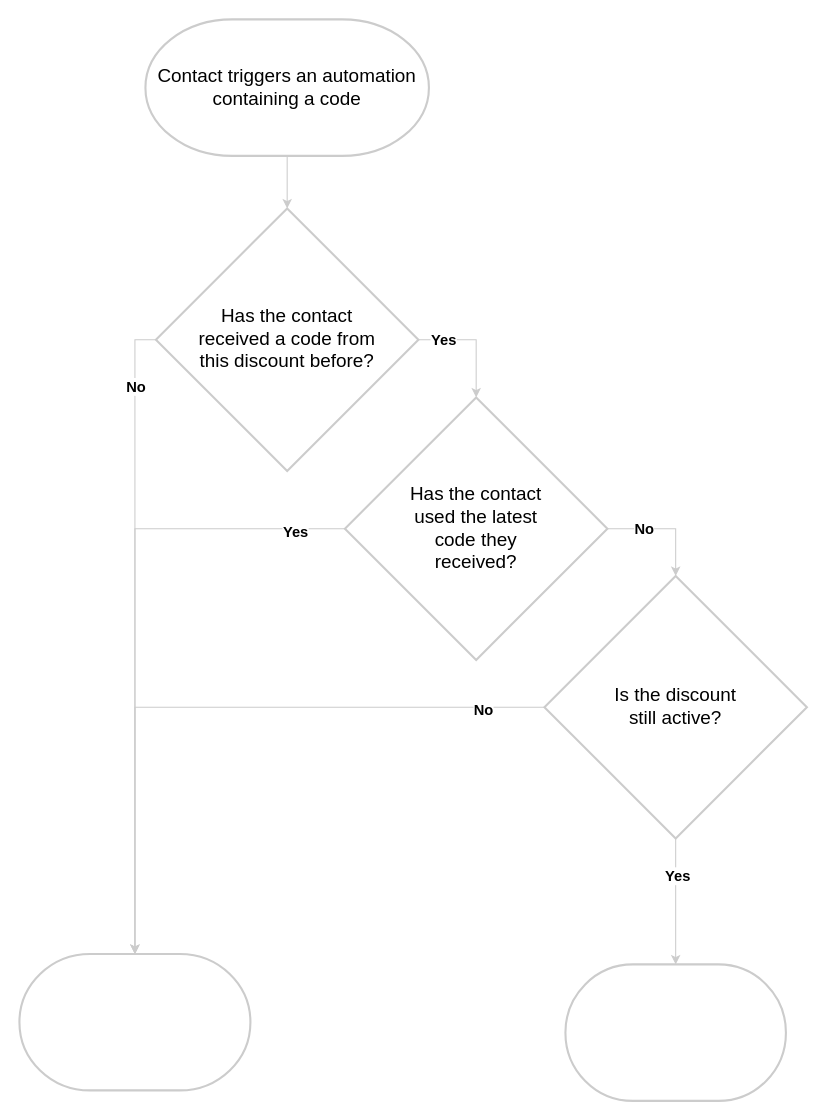
Image size: 825x1119. Some labels were removed from this diagram. The shapes that lost their labels are listed below. From the top down, each one's centre as x and y in pixels, then its label:
At point (134, 1021): "Contact receives new unique code".
At point (675, 1032): "Contact receives latest code again".
